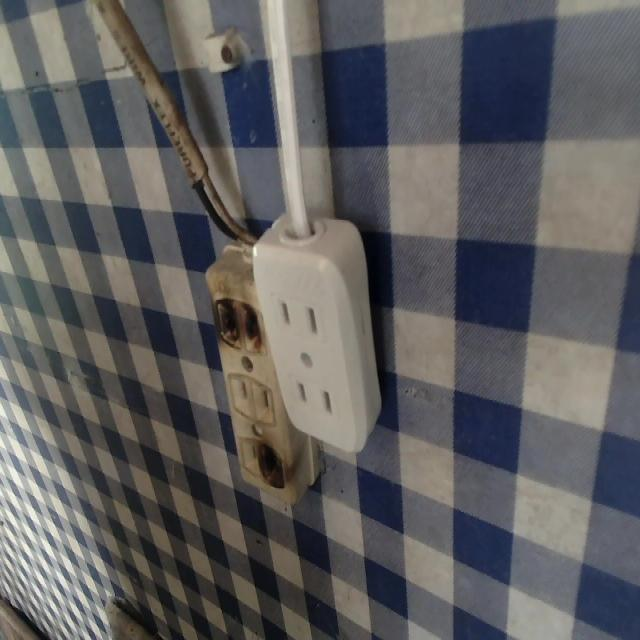-: (208, 289, 269, 356), (251, 436, 287, 496)
